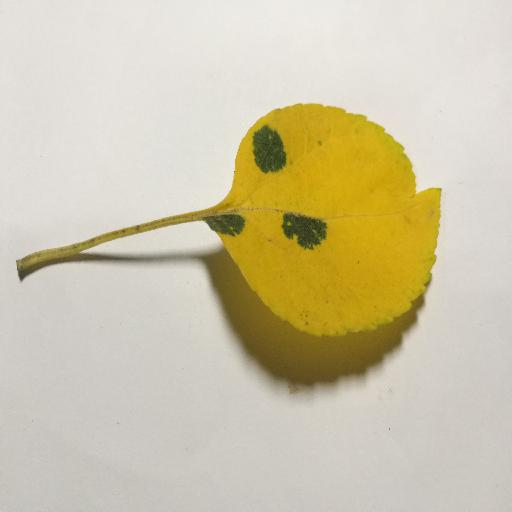Brown_Spot: (206, 212, 259, 246), (275, 217, 327, 250), (253, 131, 281, 174)
